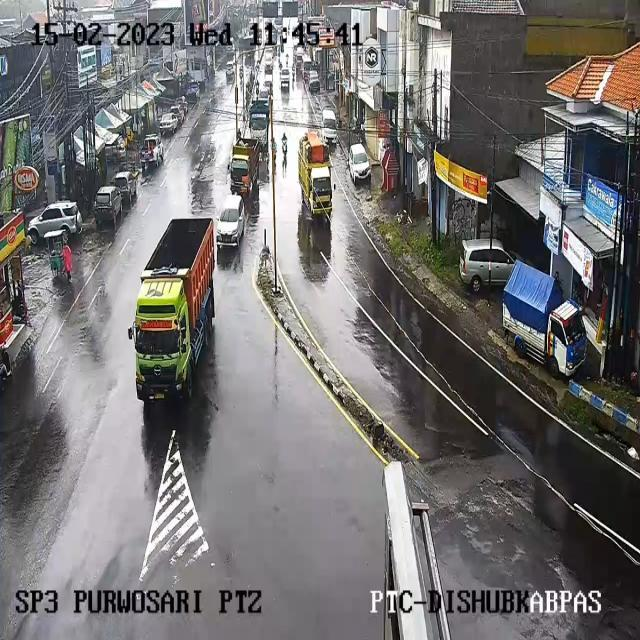Car: (459, 240, 518, 289), (26, 202, 81, 245), (215, 198, 245, 247), (92, 186, 124, 227), (112, 171, 139, 204), (348, 144, 370, 184), (140, 134, 165, 169), (281, 17, 299, 49), (105, 138, 125, 165), (158, 112, 179, 134), (258, 18, 275, 42), (182, 82, 200, 102), (250, 98, 270, 116), (235, 33, 253, 52), (169, 105, 186, 124), (146, 55, 164, 70), (279, 67, 291, 89), (301, 53, 312, 73), (308, 77, 321, 93), (243, 52, 254, 69), (242, 28, 254, 43), (178, 96, 188, 114), (326, 72, 336, 90), (258, 86, 270, 100), (264, 50, 274, 66), (295, 58, 303, 78), (226, 66, 234, 84), (264, 59, 274, 73), (249, 71, 255, 93), (295, 50, 304, 64), (225, 60, 234, 73), (274, 17, 282, 31), (302, 70, 310, 84), (264, 78, 272, 90), (280, 40, 286, 56)
Motorbike: (278, 128, 291, 161)
Truck: (128, 221, 216, 401), (506, 266, 584, 376), (298, 131, 334, 218), (230, 136, 263, 200), (248, 100, 271, 147), (320, 108, 338, 144)
